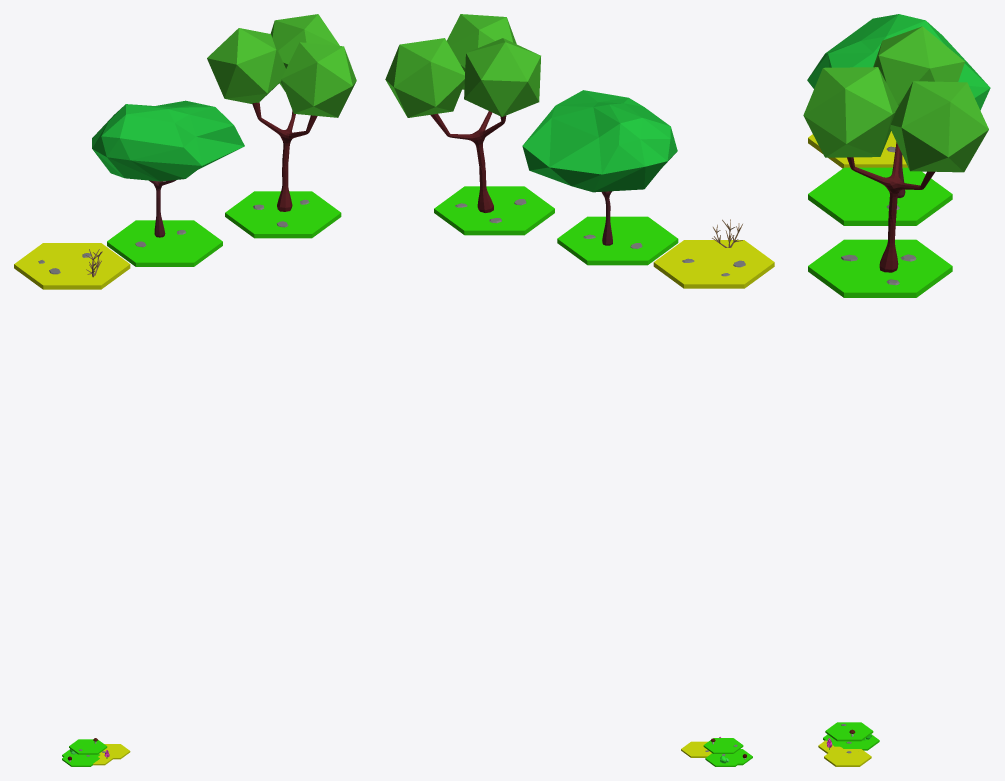
The model's file is green2.0.glb.
3 views of the same model, side by side, from view 1: azimuth 30°, elevation 25°; view 2: azimuth 150°, elevation 25°; view 3: azimuth 270°, elevation 25° (orthographic). The views are drawn at different scales.
Visible parts, largest first — view 1: Icosphere.008, Icosphere.003, Icosphere.001, Cylinder.007, Cylinder.008, Cylinder.009, Icosphere.002, Cube.001; view 2: Icosphere.008, Icosphere.001, Icosphere.002, Cylinder.007, Cylinder.008, Cylinder.009, Icosphere.003, Cube.001; view 3: Icosphere.002, Icosphere.003, Cylinder.009, Cylinder.008, Icosphere.001, Icosphere.008, Cube.001, Cylinder.007, Cylinder.013, Cylinder.002, Cylinder.026, Cylinder.015.
Part boxes in pixels (<box>): Icosphere.008: <box>92,100,244,181</box>; Icosphere.003: <box>281,42,356,117</box>; Icosphere.001: <box>207,28,285,103</box>; Cylinder.007: <box>14,243,130,289</box>; Cylinder.008: <box>107,220,222,266</box>; Cylinder.009: <box>225,191,341,238</box>; Icosphere.002: <box>270,14,339,91</box>; Cube.001: <box>252,102,317,211</box>; Icosphere.008: <box>522,90,677,192</box>; Icosphere.001: <box>464,38,540,116</box>; Icosphere.002: <box>385,38,464,117</box>; Cylinder.007: <box>653,240,774,288</box>; Cylinder.008: <box>557,216,678,265</box>; Cylinder.009: <box>434,186,554,235</box>; Icosphere.003: <box>447,14,516,89</box>; Cube.001: <box>430,111,506,212</box>; Icosphere.002: <box>890,81,988,172</box>; Icosphere.003: <box>803,67,898,157</box>; Cylinder.009: <box>808,239,952,297</box>; Cylinder.008: <box>808,167,952,225</box>; Icosphere.001: <box>873,26,964,105</box>; Icosphere.008: <box>807,14,990,110</box>; Cube.001: <box>847,142,935,272</box>; Cylinder.007: <box>808,131,907,168</box>; Cylinder.013: <box>825,722,873,741</box>; Cylinder.002: <box>824,749,871,766</box>; Cylinder.026: <box>832,734,879,750</box>; Cylinder.015: <box>818,738,860,754</box>.
Size of the model in its own units: 10.93 by 20.88 by 4.28.
